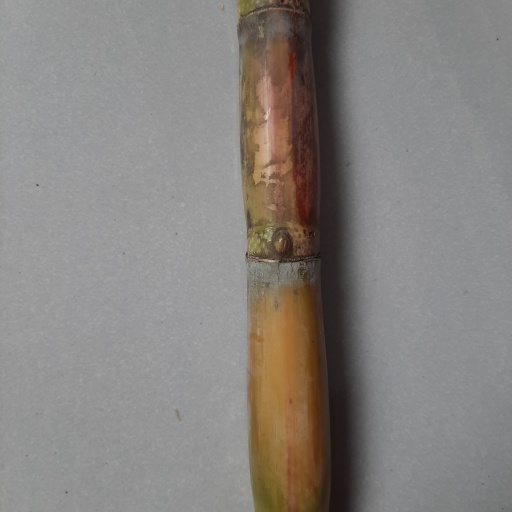Bud: (271, 227, 292, 259)
